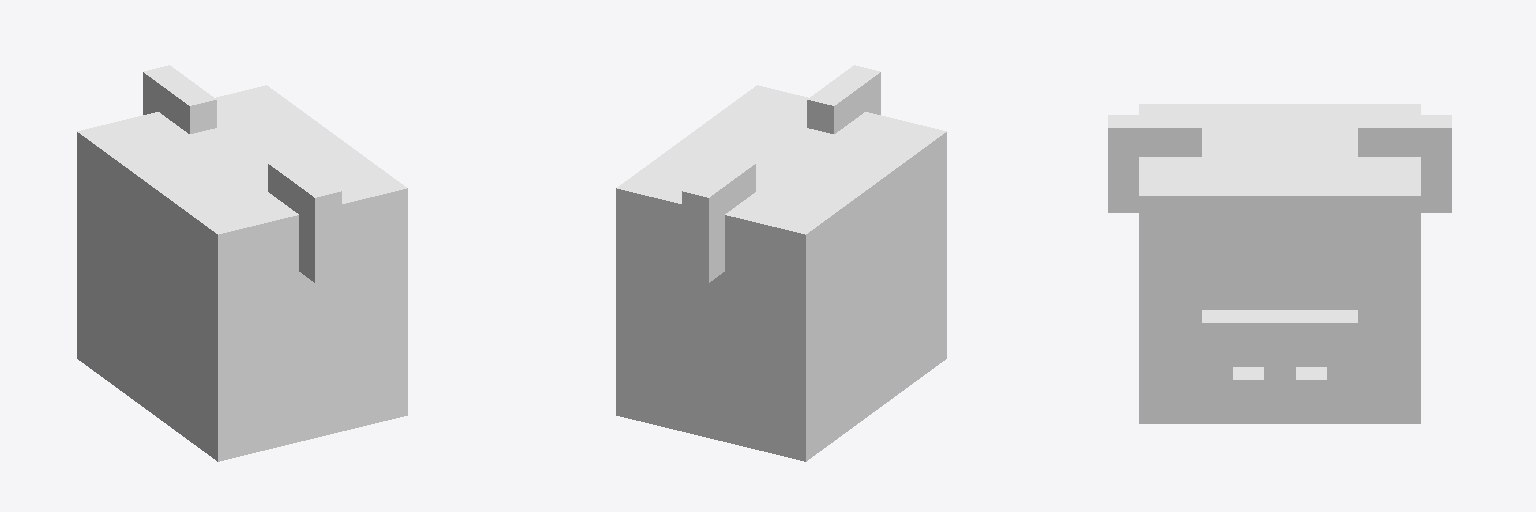
Rendered from Animals-38.obj.
3 renders of one model, left to right at view 1: azimuth 30°, elevation 25°; view 2: azimuth 150°, elevation 25°; view 3: azimuth 270°, elevation 25°, orthographic.
Visible parts, largest first — view 1: object 1; view 2: object 1; view 3: object 1.
Part boxes in pixels (left/top/right/bottom): object 1: left=77, top=65, right=407, bottom=461; object 1: left=616, top=65, right=946, bottom=461; object 1: left=1108, top=104, right=1451, bottom=423.
Bounding box in the file's own units: 0.8 × 0.9 × 1.1.